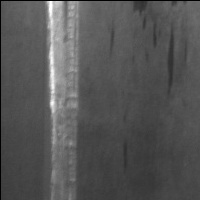inclusion: (130, 1, 159, 49), (162, 23, 179, 99), (105, 22, 118, 62), (118, 135, 132, 172)
scratches: (45, 1, 81, 200)
